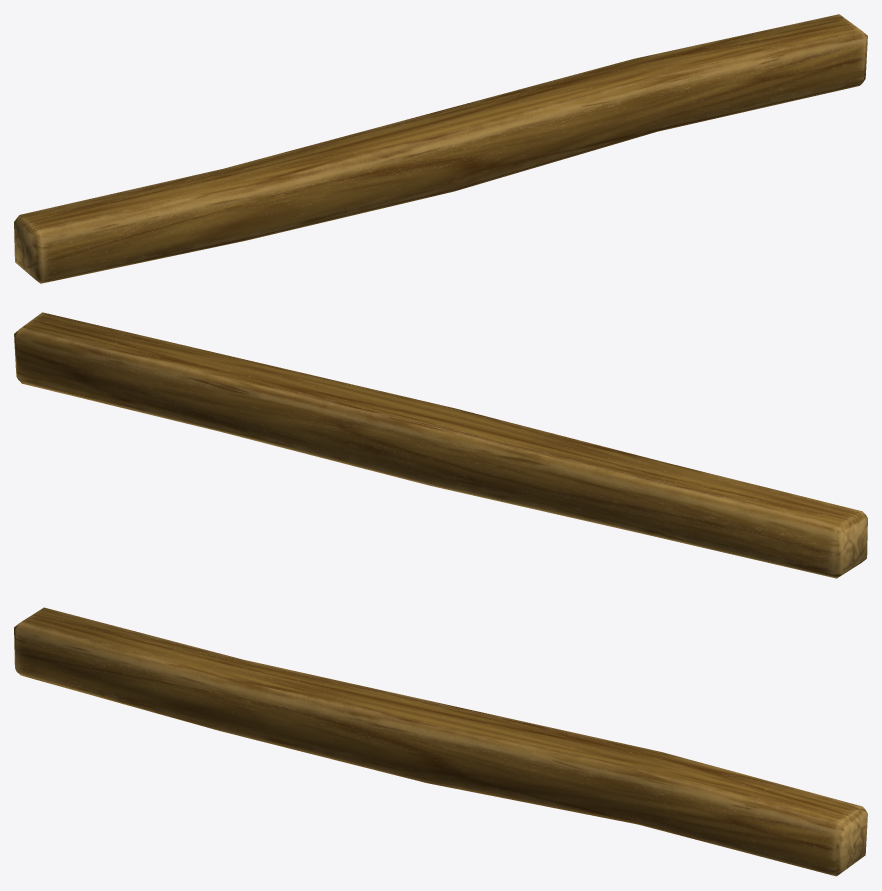
File: Pole1.fbx
The picture shows the model from 3 angles, top to bottom: view 1: azimuth 30°, elevation 25°; view 2: azimuth 150°, elevation 25°; view 3: azimuth 330°, elevation 25°; orthographic projection.
Visible parts, largest first — view 1: Pole1_LOD0; view 2: Pole1_LOD0; view 3: Pole1_LOD0.
Part boxes in pixels (<box>): Pole1_LOD0: <box>14,14,867,283</box>; Pole1_LOD0: <box>14,312,867,578</box>; Pole1_LOD0: <box>14,607,867,876</box>.
Bounding box in the file's own units: 151 × 10.99 × 10.48.
1 material, 1 textured.
